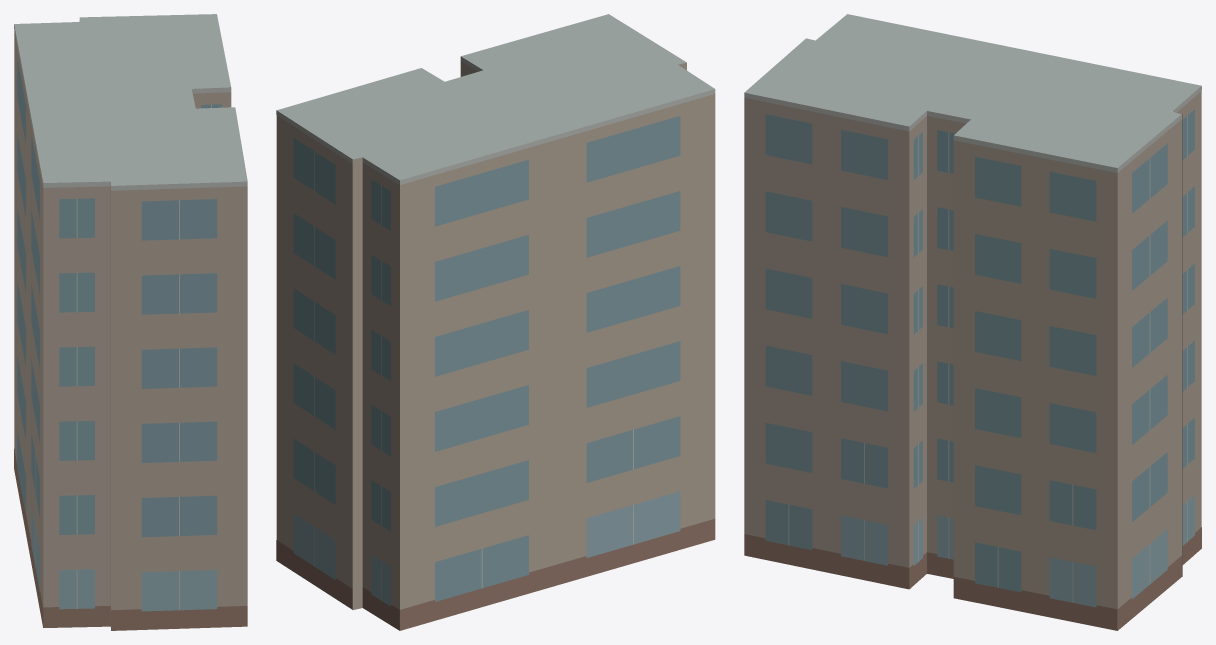
The model's file is survey-upis-32597977.glb.
3 views of the same model, side by side, from view 1: azimuth 30°, elevation 25°; view 2: azimuth 150°, elevation 25°; view 3: azimuth 270°, elevation 25° (orthographic). The views are drawn at different scales.
Visible parts, largest first — view 1: survey-upis-32597977.tmp; view 2: survey-upis-32597977.tmp; view 3: survey-upis-32597977.tmp.
Boxes of the visible parts, bbox=[...] form: survey-upis-32597977.tmp: bbox=[14, 14, 247, 630]; survey-upis-32597977.tmp: bbox=[276, 14, 715, 630]; survey-upis-32597977.tmp: bbox=[744, 14, 1201, 630].
Size of the model in its own units: 16.36 by 22.9 by 20.53.
